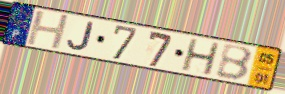7: (148, 29, 174, 69), (112, 23, 138, 61)
B: (215, 44, 255, 83)
H: (24, 10, 72, 51), (179, 38, 222, 78)
J: (66, 20, 96, 52)
